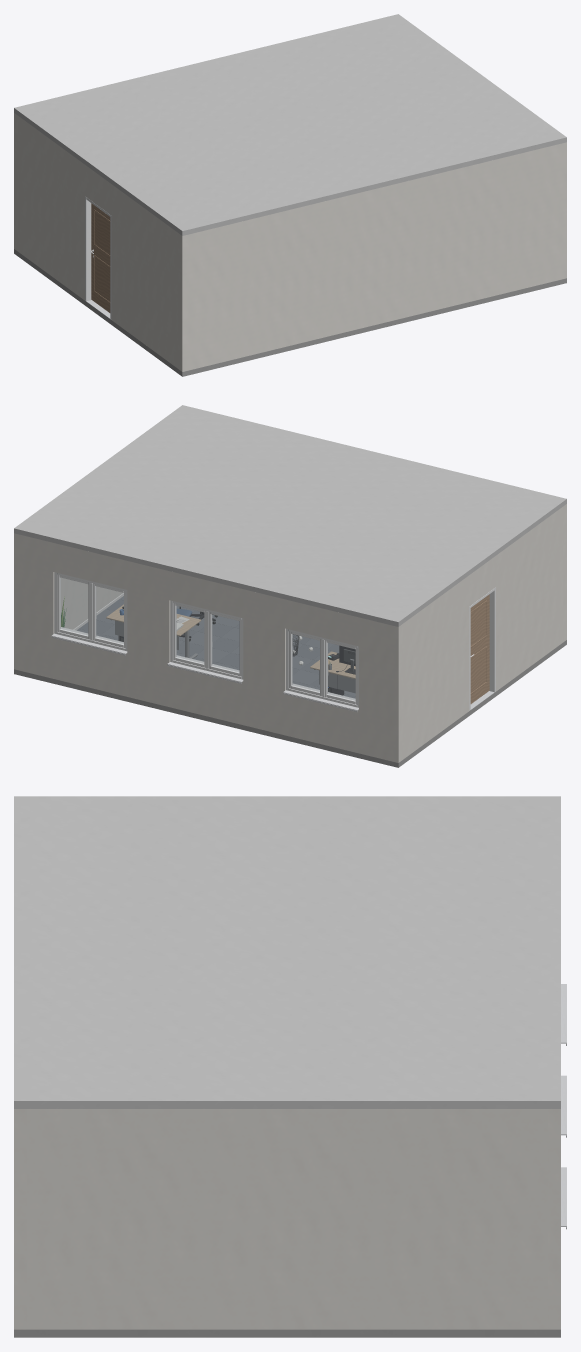
Rendered from ankara.glb.
3 renders of one model, top to bottom at view 1: azimuth 30°, elevation 25°; view 2: azimuth 150°, elevation 25°; view 3: azimuth 270°, elevation 25°, orthographic. The views are drawn at different scales.
Parts seen in each view (by area): view 1: SM_Rohdecke, SM_Wand_Sued, SM_Wand_West, SM_Rohboden, SM_Tuerblatt, SM_Tuerzarge, SM_Wand_Nord; view 2: SM_Rohdecke, SM_Wand_Nord, SM_Wand_West, SM_Fenster_3, SM_Fenster_2, SM_Fenster_1, SM_Teppichfliesen, SM_Rohboden, SM_Tuerblatt, SM_Wand_Ost, SM_Tuerzarge, SM_Schreibtisch_1 (+2 smaller); view 3: SM_Rohdecke, SM_Wand_Ost, SM_Rohboden, SM_Wand_Nord, SM_Wand_Sued.
Boxes of the visible parts, box(x1,y1,x2,y2) form: SM_Rohdecke: box(14, 14, 566, 235); SM_Wand_Sued: box(178, 142, 566, 371); SM_Wand_West: box(18, 116, 178, 368); SM_Rohboden: box(14, 249, 566, 376); SM_Tuerblatt: box(90, 203, 110, 312); SM_Tuerzarge: box(85, 196, 111, 319); SM_Wand_Nord: box(14, 113, 17, 251); SM_Rohdecke: box(14, 405, 566, 626); SM_Wand_Nord: box(14, 533, 402, 762); SM_Wand_West: box(402, 507, 562, 759); SM_Fenster_3: box(51, 572, 127, 655); SM_Fenster_2: box(167, 600, 243, 683); SM_Fenster_1: box(283, 628, 358, 711); SM_Teppichfliesen: box(77, 596, 355, 698); SM_Rohboden: box(14, 640, 566, 767); SM_Tuerblatt: box(470, 594, 489, 703); SM_Wand_Ost: box(61, 577, 122, 629); SM_Tuerzarge: box(469, 587, 495, 710); SM_Schreibtisch_1: box(310, 651, 355, 692); SM_Rohdecke: box(14, 796, 560, 1108); SM_Wand_Ost: box(27, 1109, 547, 1329); SM_Rohboden: box(14, 1329, 560, 1337); SM_Wand_Nord: box(548, 1109, 560, 1329); SM_Wand_Sued: box(14, 1109, 26, 1329).
Bounding box in the file's own units: 8.3 × 3.01 × 6.37.
46 materials, 38 textured.
